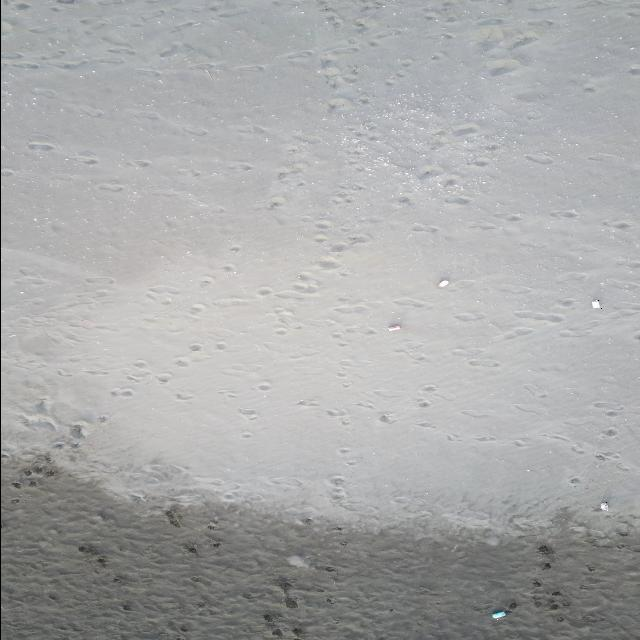Garbage: (491, 609, 507, 619), (387, 323, 400, 331), (600, 500, 607, 510), (437, 280, 448, 286), (592, 299, 600, 307)
